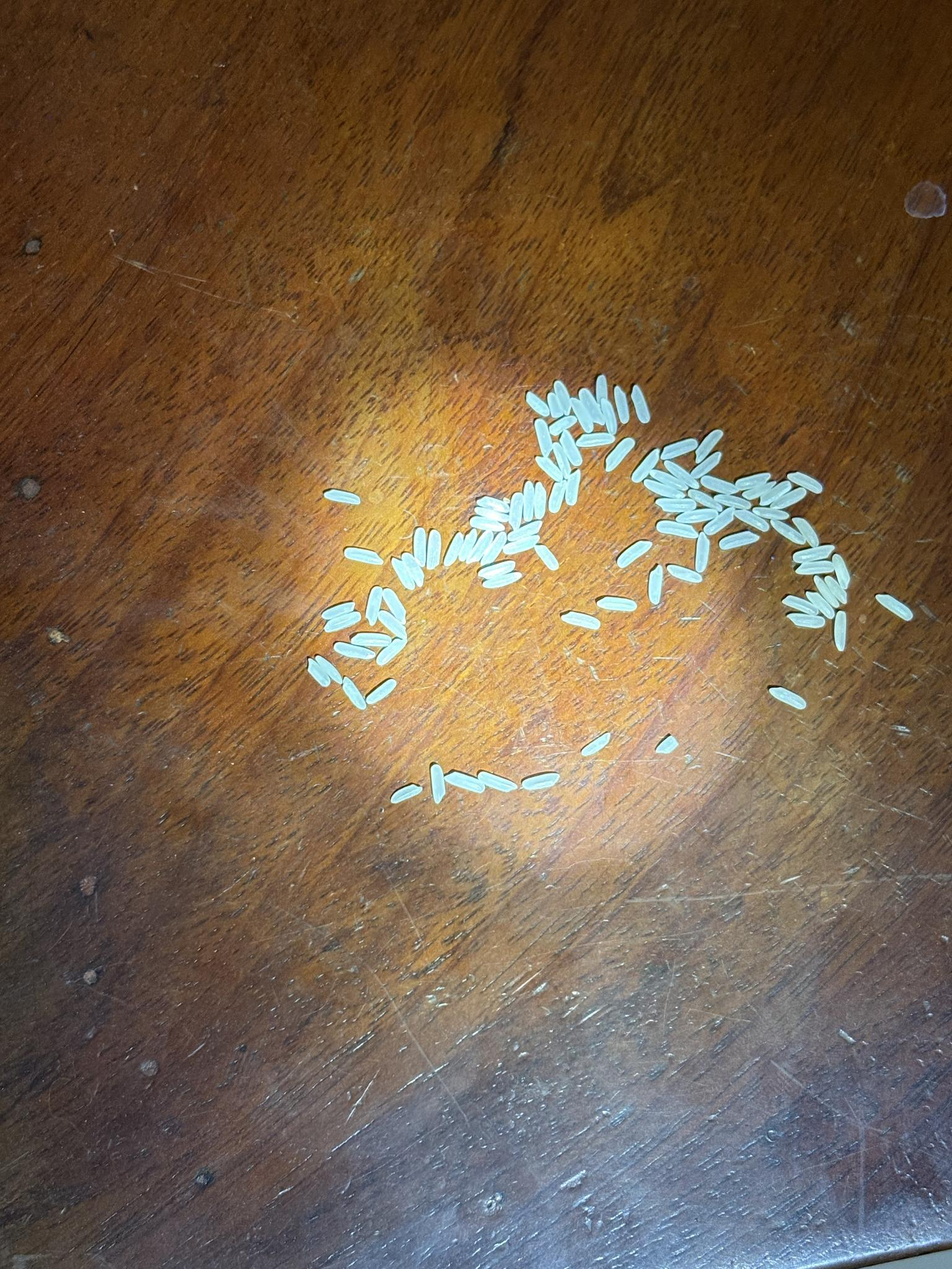Rice-th-y-nh: (632, 449, 660, 484), (606, 437, 634, 471), (665, 461, 699, 489), (876, 595, 913, 620), (695, 429, 723, 462), (617, 541, 652, 567), (704, 507, 735, 535), (478, 771, 516, 793), (771, 520, 804, 545), (468, 531, 493, 564), (445, 772, 484, 793), (580, 389, 603, 424), (690, 453, 722, 478), (482, 532, 506, 565), (769, 687, 805, 709), (379, 611, 407, 639), (794, 517, 820, 547), (814, 576, 839, 607), (561, 431, 583, 466), (384, 589, 406, 624), (806, 591, 834, 618), (316, 655, 342, 684), (367, 679, 397, 704), (571, 399, 593, 433), (342, 678, 366, 709), (760, 482, 791, 506), (719, 531, 758, 550), (392, 558, 415, 590), (735, 510, 770, 531), (377, 639, 405, 665), (783, 595, 819, 615), (788, 472, 822, 493), (793, 545, 835, 562), (402, 553, 424, 585), (651, 470, 686, 490), (657, 521, 698, 538), (632, 386, 650, 424), (644, 480, 682, 498), (325, 613, 361, 632), (484, 571, 522, 589), (772, 488, 806, 508), (536, 456, 563, 481), (535, 419, 553, 456), (509, 521, 542, 541), (690, 490, 721, 511), (504, 537, 540, 555), (478, 561, 514, 579), (523, 773, 559, 791), (345, 547, 383, 564), (562, 612, 600, 629), (582, 733, 610, 756), (444, 534, 464, 566), (335, 643, 375, 659), (656, 497, 696, 513), (662, 440, 697, 458), (459, 529, 478, 562), (668, 565, 702, 583), (832, 554, 850, 588), (701, 476, 735, 494), (553, 444, 572, 476), (366, 587, 382, 625), (677, 508, 717, 523), (308, 659, 330, 686), (825, 576, 847, 603), (715, 494, 752, 510), (430, 765, 446, 802), (614, 386, 630, 422), (535, 545, 558, 570), (322, 602, 355, 619), (597, 597, 637, 611), (696, 533, 710, 573), (743, 482, 774, 500), (390, 785, 421, 803), (351, 632, 390, 646), (477, 496, 509, 513), (601, 400, 617, 434), (549, 481, 566, 513), (787, 614, 825, 628), (427, 530, 441, 568), (649, 566, 663, 604), (527, 392, 549, 416), (554, 381, 571, 412), (735, 473, 770, 488), (550, 416, 576, 436), (753, 507, 789, 521), (470, 517, 503, 532), (566, 470, 580, 505), (577, 433, 613, 446), (523, 481, 535, 520), (414, 528, 426, 566), (325, 490, 360, 503), (510, 494, 523, 529), (534, 482, 546, 519), (835, 612, 846, 652), (475, 507, 505, 521), (796, 563, 834, 574), (547, 393, 562, 418), (656, 736, 677, 753), (596, 375, 607, 401)
